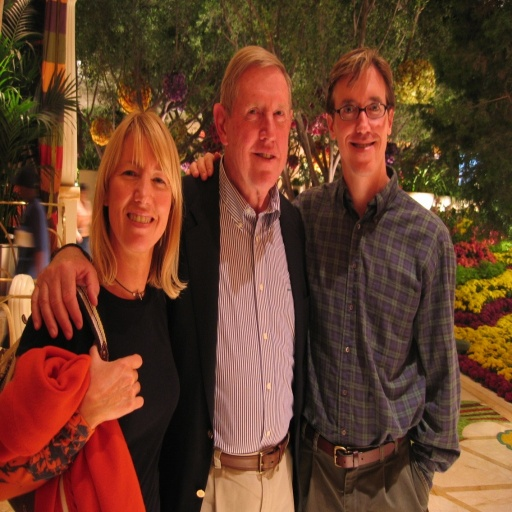hand: (25, 245, 100, 362), (83, 343, 144, 426), (184, 150, 222, 182)
